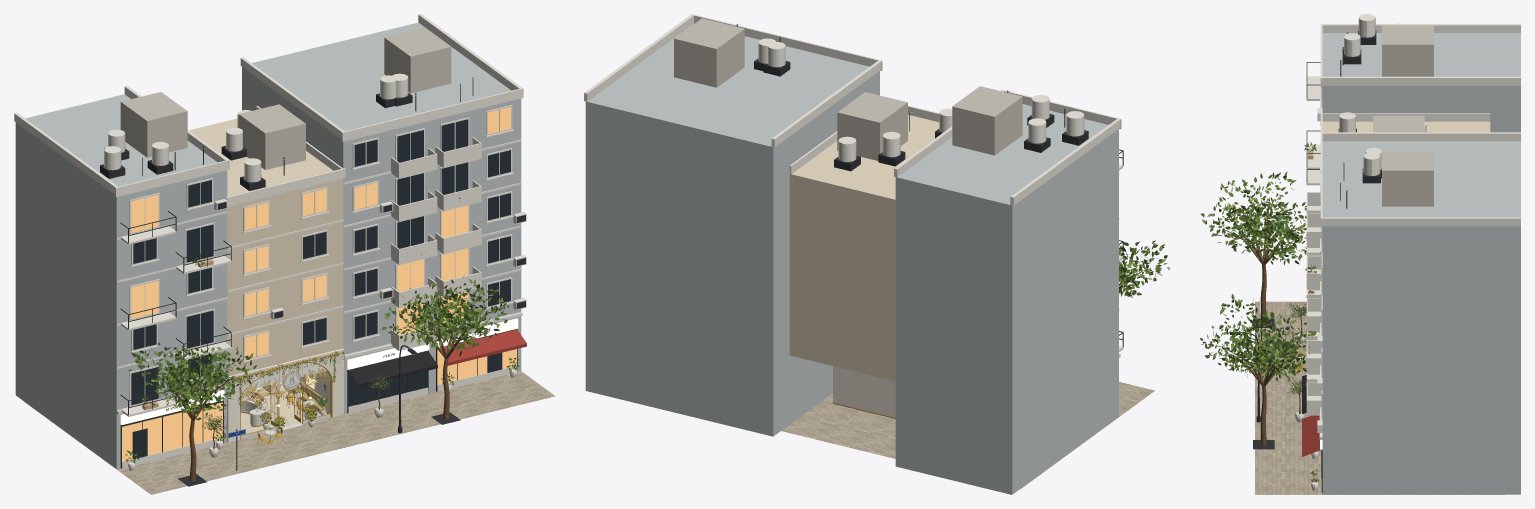
The model's file is square-50.glb.
3 renders of one model, left to right at view 1: azimuth 30°, elevation 25°; view 2: azimuth 150°, elevation 25°; view 3: azimuth 270°, elevation 25°, orthographic. The views are drawn at different scales.
Parts seen in each view (by area): view 1: bw6, bwtrim, facade_hi, win, win_lit_n, paving, bw3, leaf, leaf2, iron, facade, sign_n (+8 smaller); view 2: bw6, facade_hi, bw3, bwtrim, paving, plaster, iron, leaf, leaf2; view 3: bw6, bwtrim, paving, bw3, leaf, leaf2, iron, trunk, facade_hi, aw_r.
Part boxes in pixels (bbox=[...]): bw6: bbox=[15, 22, 521, 468]; bwtrim: bbox=[14, 14, 526, 468]; facade_hi: bbox=[189, 118, 343, 376]; win: bbox=[131, 119, 510, 458]; win_lit_n: bbox=[122, 107, 516, 461]; paving: bbox=[24, 370, 555, 494]; bw3: bbox=[120, 27, 451, 169]; leaf: bbox=[125, 200, 518, 462]; leaf2: bbox=[126, 197, 519, 463]; iron: bbox=[100, 77, 525, 486]; facade: bbox=[227, 348, 344, 442]; sign_n: bbox=[120, 318, 518, 424]; bw6: bbox=[585, 24, 1118, 494]; facade_hi: bbox=[789, 114, 939, 381]; bw3: bbox=[674, 18, 1022, 160]; bwtrim: bbox=[584, 14, 1123, 357]; paving: bbox=[781, 382, 1154, 489]; plaster: bbox=[833, 366, 895, 417]; iron: bbox=[736, 24, 1123, 347]; leaf: bbox=[1119, 241, 1169, 297]; leaf2: bbox=[1119, 240, 1167, 296]; bw6: bbox=[1322, 33, 1520, 494]; bwtrim: bbox=[1306, 14, 1520, 491]; paving: bbox=[1255, 301, 1505, 494]; bw3: bbox=[1373, 25, 1433, 206]; leaf: bbox=[1201, 142, 1318, 481]; leaf2: bbox=[1200, 142, 1319, 482]; iron: bbox=[1230, 30, 1381, 492]; trunk: bbox=[1225, 197, 1306, 445]; facade_hi: bbox=[1322, 121, 1490, 132]; aw_r: bbox=[1302, 415, 1320, 456].
Bounding box in the file's own units: 30.99 × 22.09 × 21.1.
Materials: 68 (20 with a texture image).
